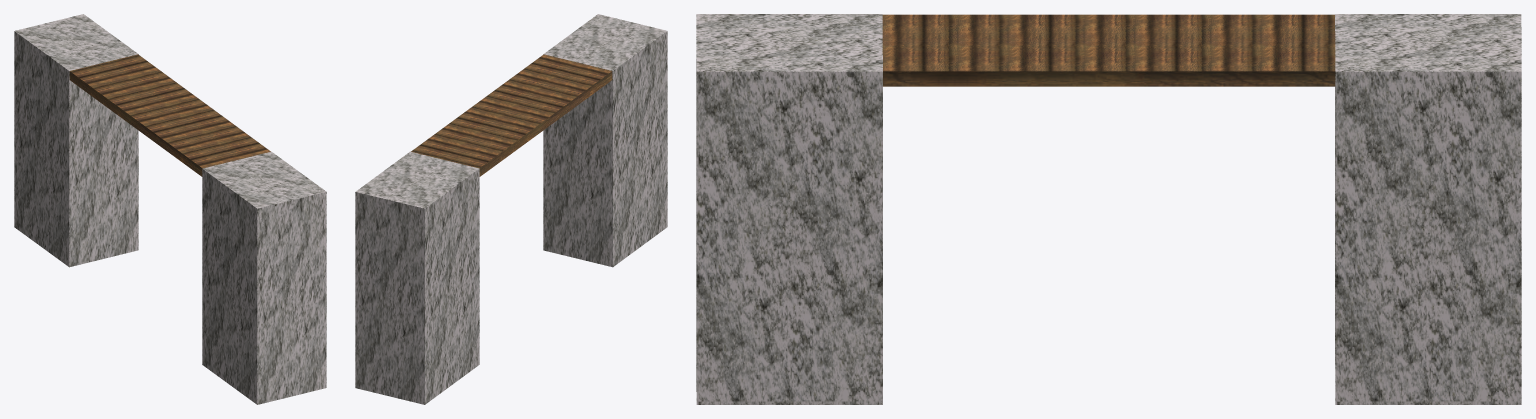
The model's file is pro_stone_bridge2.obj.
3 views of the same model, side by side, from view 1: azimuth 30°, elevation 25°; view 2: azimuth 150°, elevation 25°; view 3: azimuth 270°, elevation 25° (orthographic). The views are drawn at different scales.
Parts seen in each view (by area): view 1: SM_MERGED_Plane6_3.001_SM_MERGED_Plane6.000, SM_MERGED_Plane6_3.001_SM_MERGED_Plane6.001_SM_MERGED_Plane6_3.0, SM_MERGED_Plane6_3.018_SM_MERGED_Plane6.018; view 2: SM_MERGED_Plane6_3.001_SM_MERGED_Plane6.001_SM_MERGED_Plane6_3.0, SM_MERGED_Plane6_3.001_SM_MERGED_Plane6.000, SM_MERGED_Plane6_3.018_SM_MERGED_Plane6.018; view 3: SM_MERGED_Plane6_3.001_SM_MERGED_Plane6.000, SM_MERGED_Plane6_3.001_SM_MERGED_Plane6.001_SM_MERGED_Plane6_3.0, SM_MERGED_Plane6_3.018_SM_MERGED_Plane6.018.
Boxes of the visible parts, <box> form: SM_MERGED_Plane6_3.001_SM_MERGED_Plane6.000: <box>202,151,326,404</box>; SM_MERGED_Plane6_3.001_SM_MERGED_Plane6.001_SM_MERGED_Plane6_3.0: <box>14,14,138,267</box>; SM_MERGED_Plane6_3.018_SM_MERGED_Plane6.018: <box>69,54,270,176</box>; SM_MERGED_Plane6_3.001_SM_MERGED_Plane6.001_SM_MERGED_Plane6_3.0: <box>355,151,479,404</box>; SM_MERGED_Plane6_3.001_SM_MERGED_Plane6.000: <box>543,14,667,267</box>; SM_MERGED_Plane6_3.018_SM_MERGED_Plane6.018: <box>411,54,612,176</box>; SM_MERGED_Plane6_3.001_SM_MERGED_Plane6.000: <box>696,14,882,404</box>; SM_MERGED_Plane6_3.001_SM_MERGED_Plane6.001_SM_MERGED_Plane6_3.0: <box>1335,14,1521,404</box>; SM_MERGED_Plane6_3.018_SM_MERGED_Plane6.018: <box>882,14,1335,86</box>.
Bounding box in the file's own units: 6.29 × 16.94 × 38.02.
